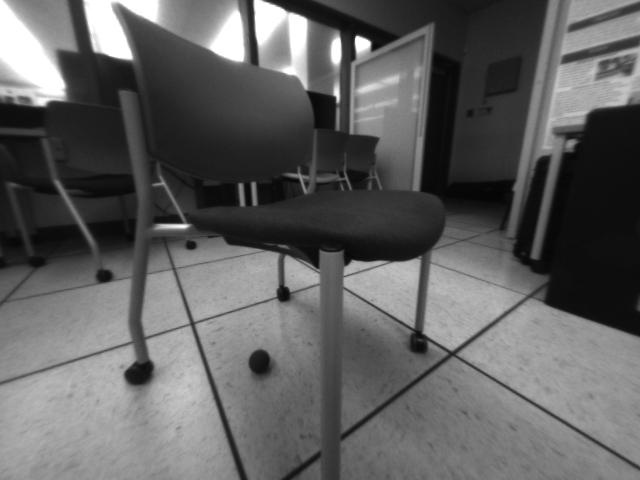dogtoy: (240, 342, 278, 381)
